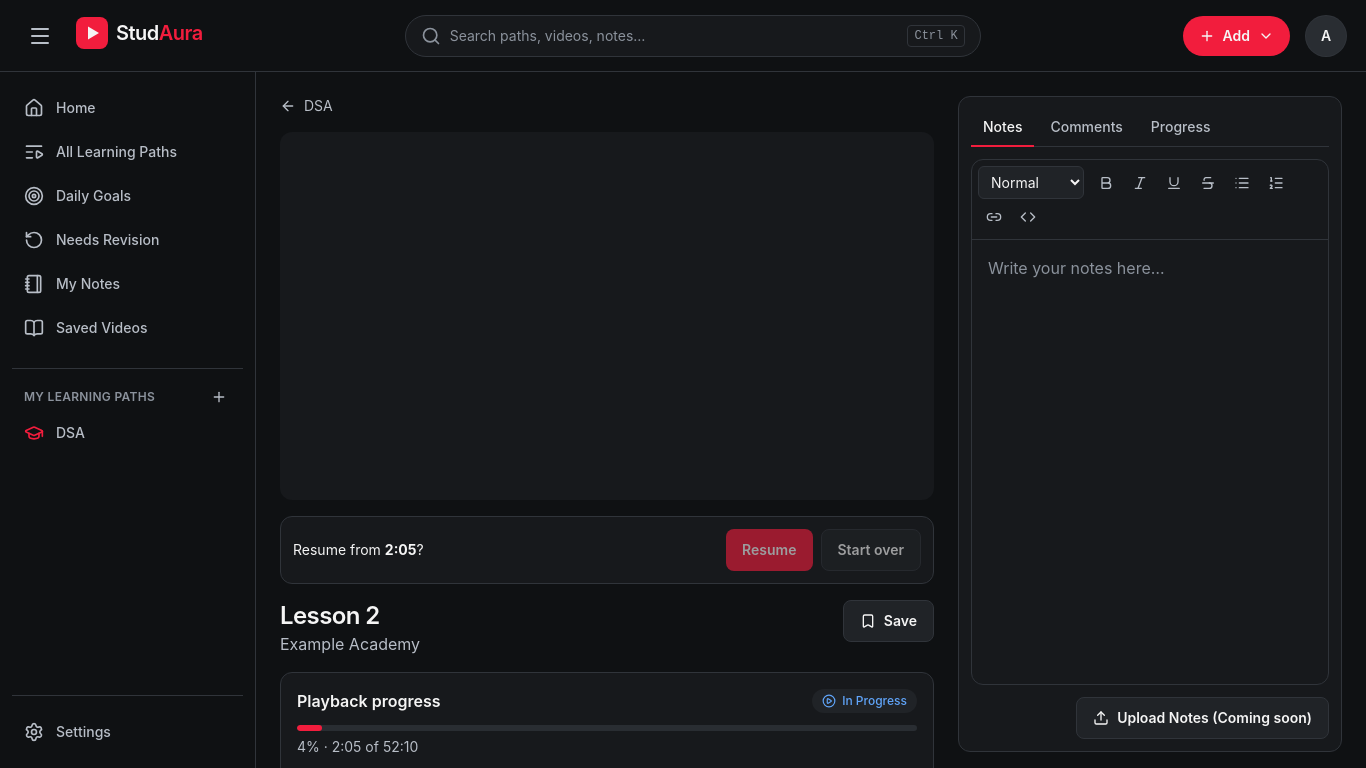
Test case: the Progress tab › shows today's goal, with minutes that add up
This screenshot has width=1366, height=768.
Expected: the heading "Lesson 2" is shown, [280,601,380,630]
Step 1. Click the tab "Progress" → click(1181, 128), box [1139,109,1223,147]
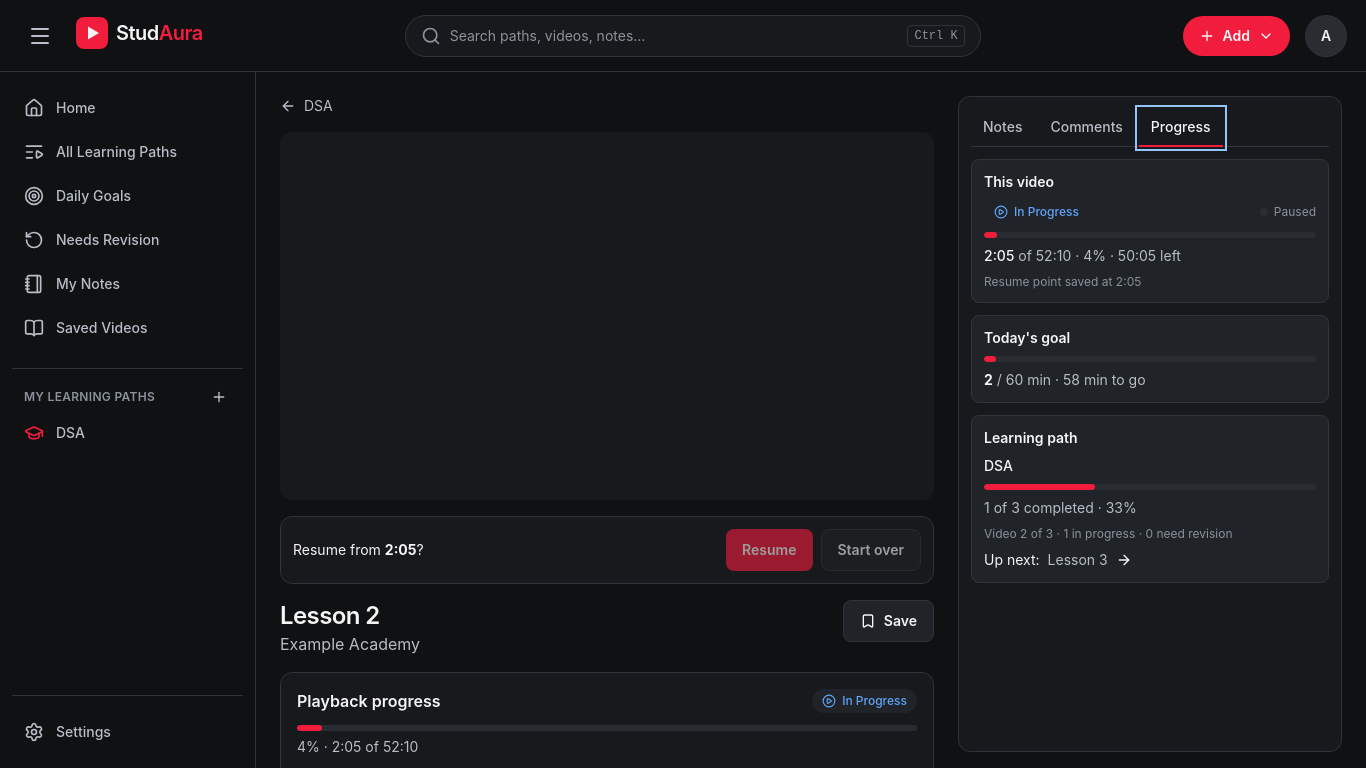
Result: the text "2" is shown at [984,371,993,388]
Result: the text "2 / 60 min · 58 min to go" is shown at [984,371,1146,388]
Result: the text "· 58 min to go" is shown at [1051,371,1146,388]
